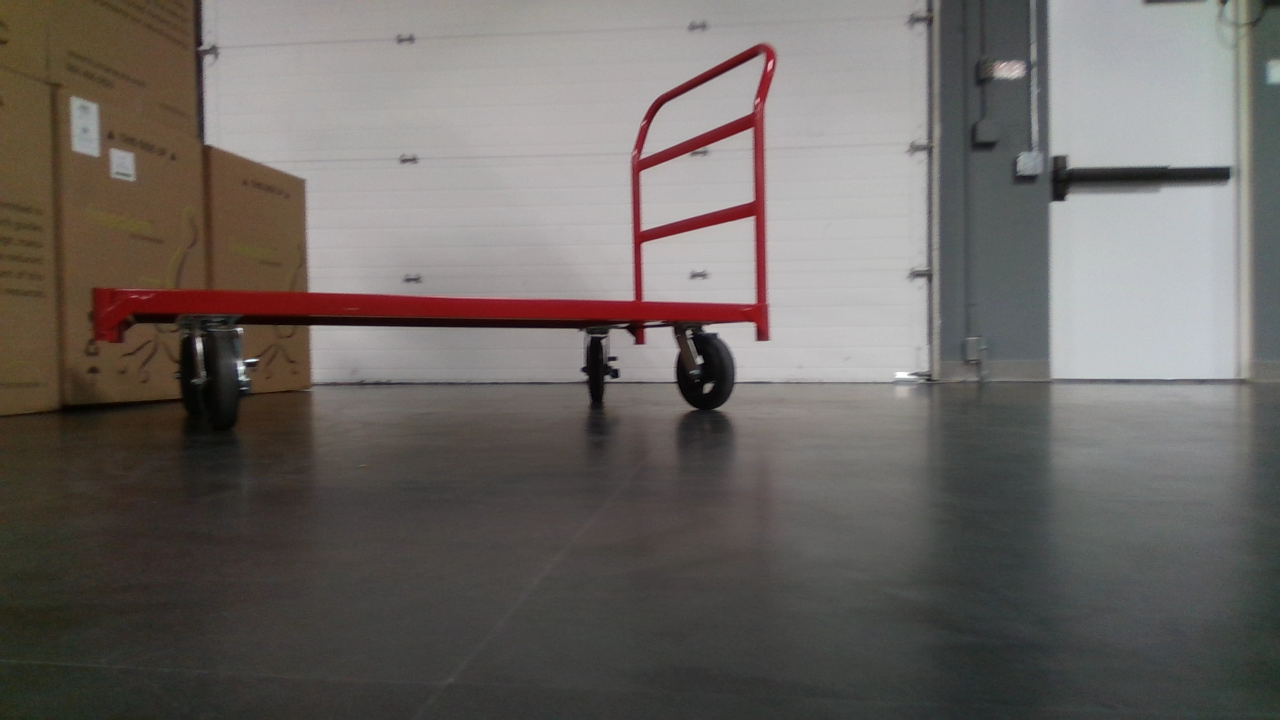Dolly: (90, 40, 778, 428)
Wheel: (189, 328, 258, 427), (674, 334, 737, 411), (580, 334, 618, 403), (181, 339, 196, 404)
